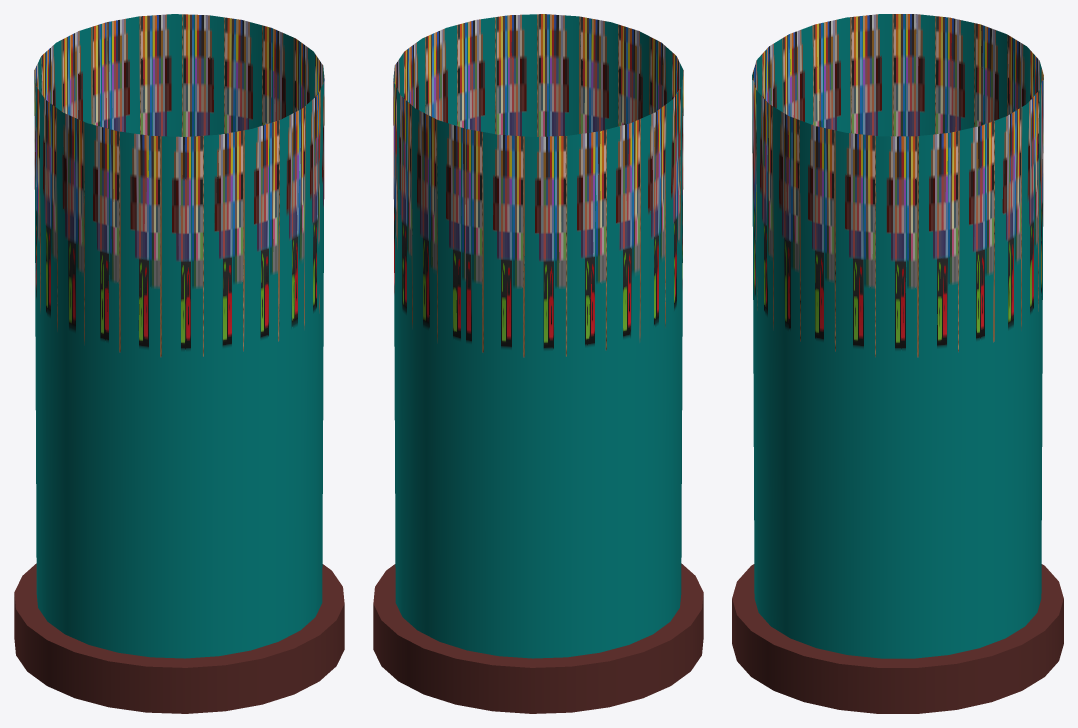
3 renders of one model, left to right at view 1: azimuth 30°, elevation 25°; view 2: azimuth 150°, elevation 25°; view 3: azimuth 270°, elevation 25°, orthographic.
Parts seen in each view (by area): view 1: Glow, Tube; view 2: Glow, Tube; view 3: Glow, Tube.
Part boxes in pixels (x1,y1,x2,y2): Glow: (34,14,324,658); Tube: (14,563,344,713); Glow: (393,14,683,658); Tube: (373,563,703,713); Glow: (752,14,1043,658); Tube: (732,564,1063,713).
Size of the model in its own units: 59.01 by 113 by 59.45.
